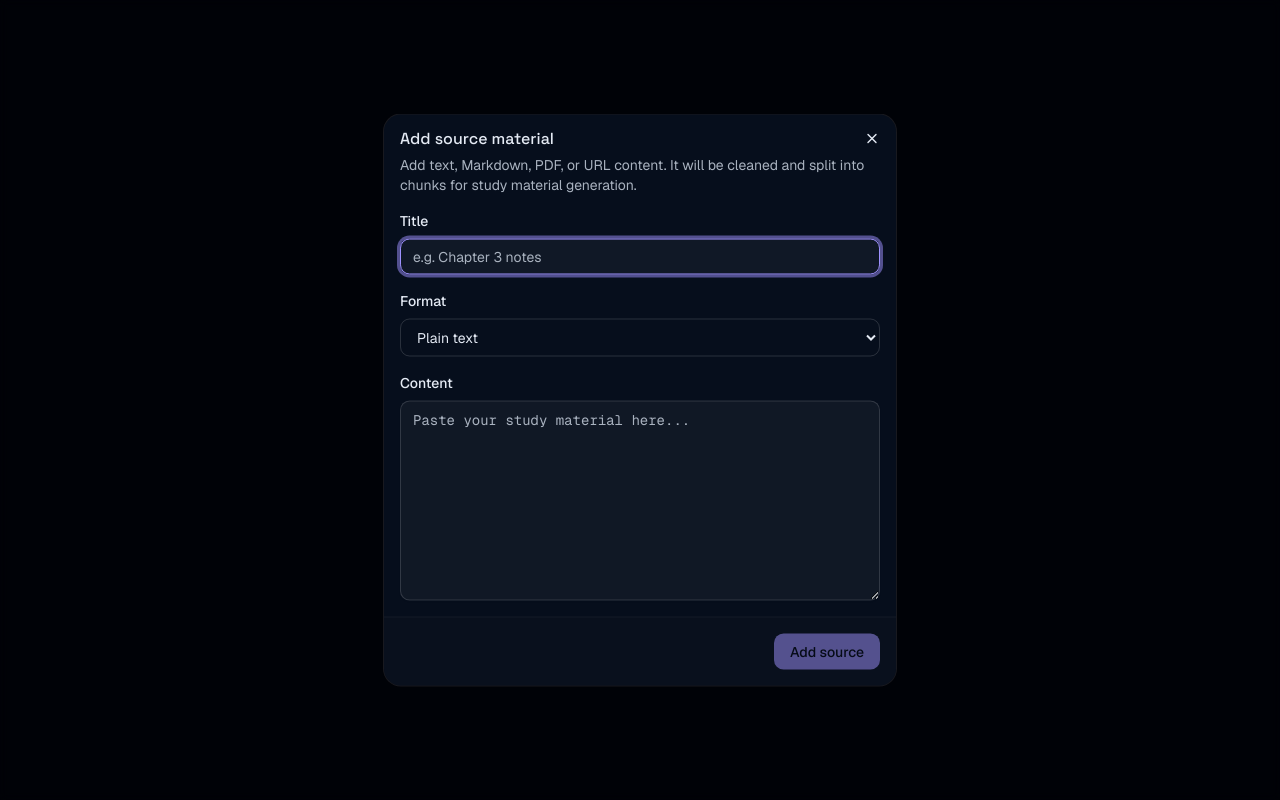
it: CreateSourceDialog › disables the submit button until title and content are present
Expected: the button "Add source" is disabled, [774, 634, 880, 670]
Type "Chapter 1" into the field labelled "Title" at (640, 256), box [400, 238, 880, 274]
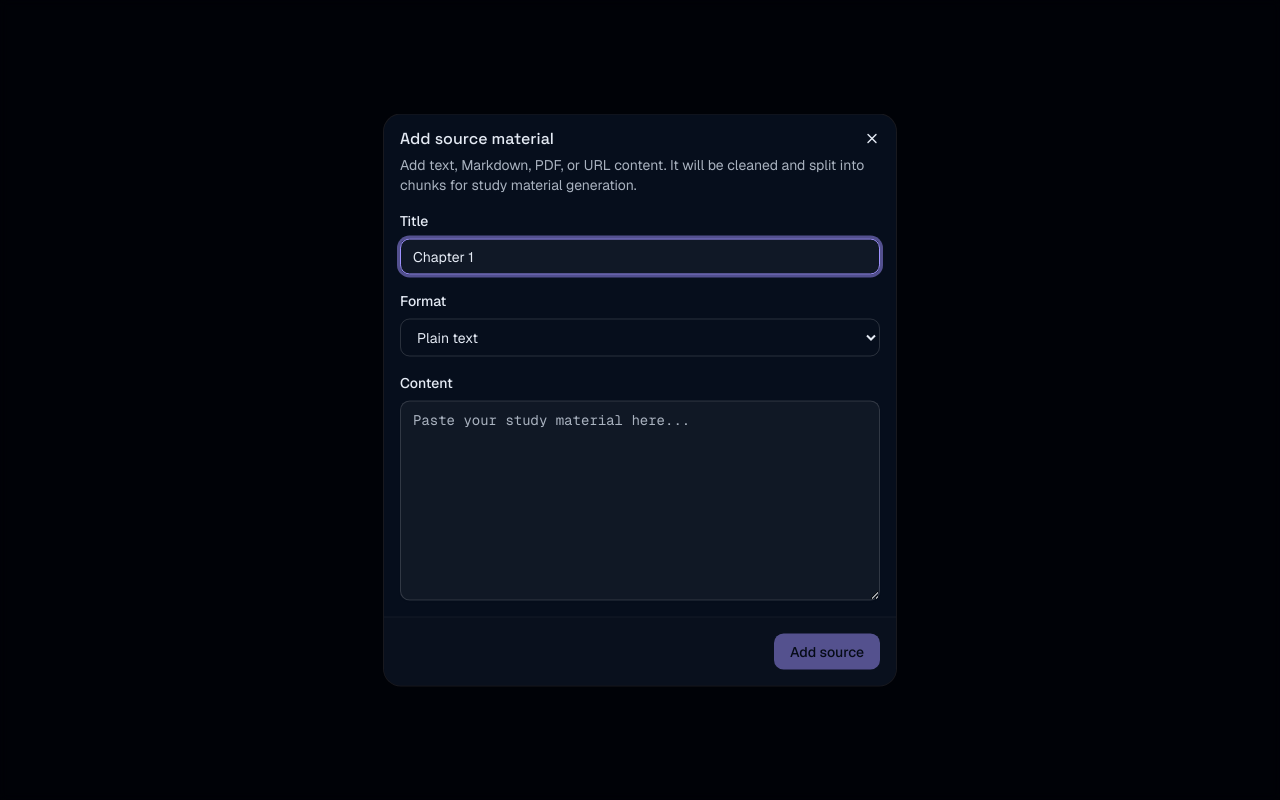
Type "The mitochondria is the powerhouse of the cell." into the text box labelled "Content" at (640, 500), box [400, 400, 880, 600]
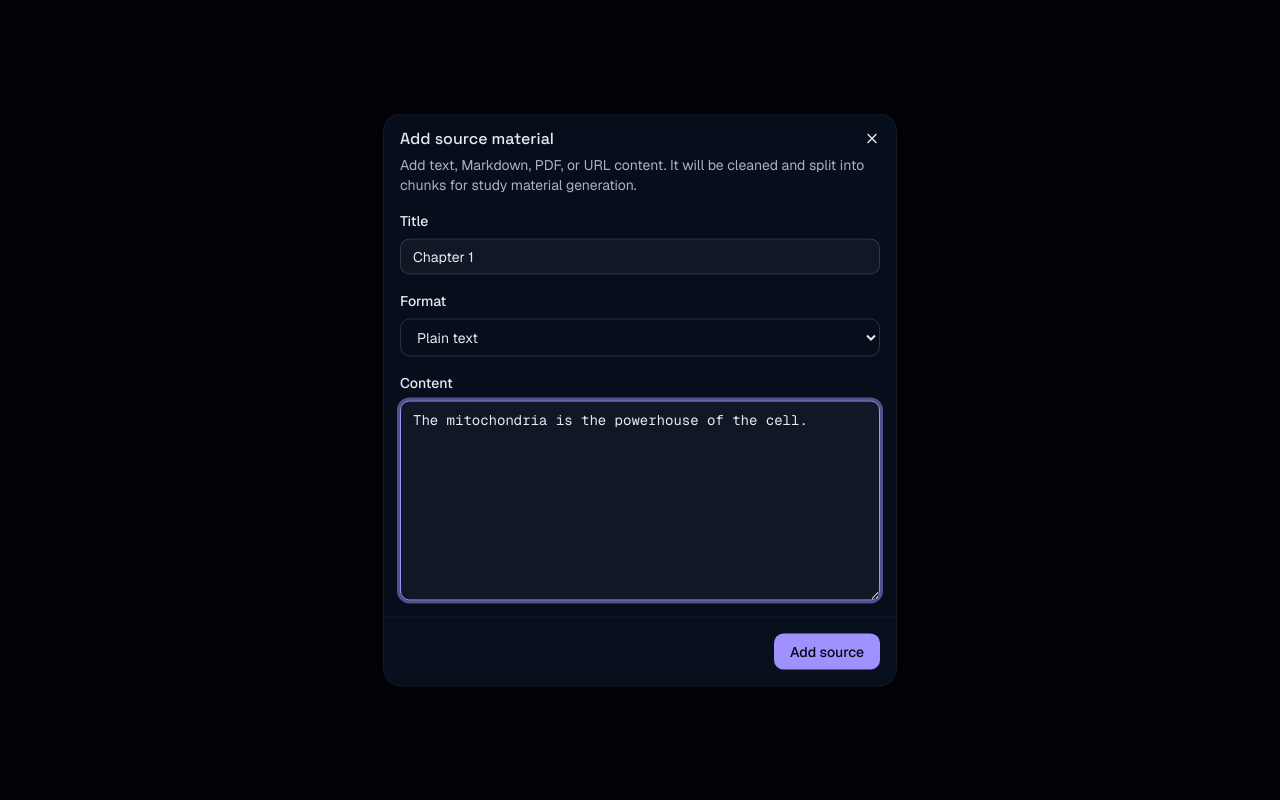
Expected: the button "Add source" is enabled, [774, 634, 880, 670]
